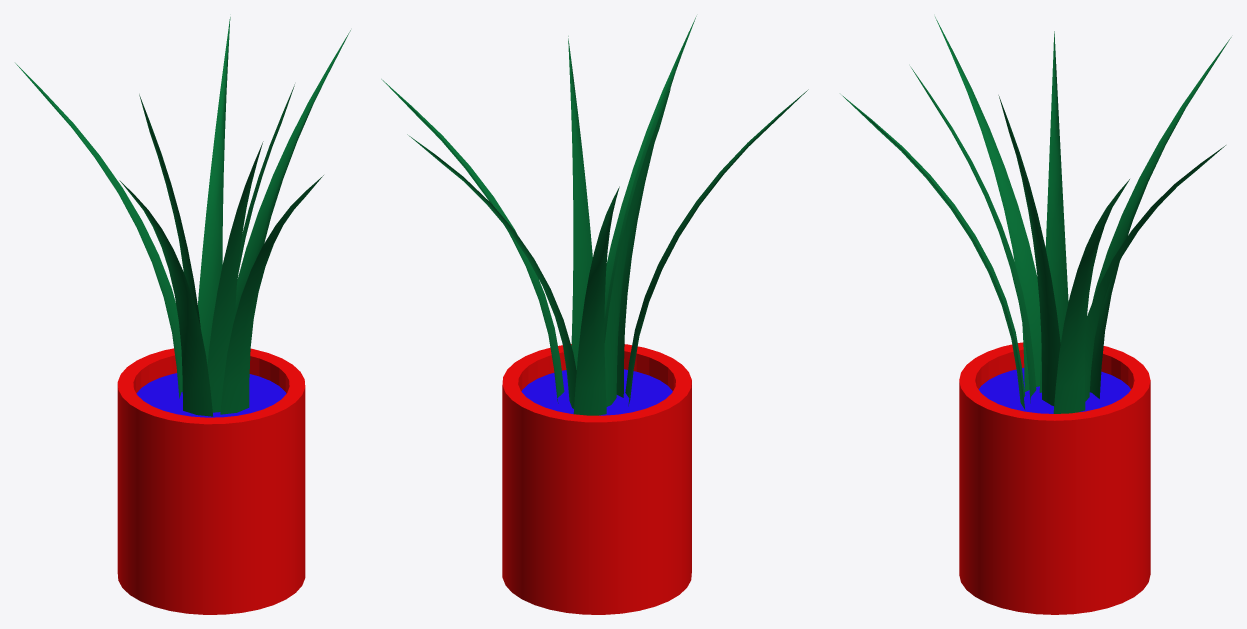
Rendered from Plant.fbx.
3 renders of one model, left to right at view 1: azimuth 30°, elevation 25°; view 2: azimuth 150°, elevation 25°; view 3: azimuth 270°, elevation 25°, orthographic.
Visible parts, largest first — view 1: Plant; view 2: Plant; view 3: Plant.
Boxes of the visible parts, x1,y1,x2,y2 form: Plant: [15, 17, 350, 614]; Plant: [381, 16, 808, 614]; Plant: [842, 17, 1231, 614].
Size of the model in its own units: 19.44 by 28.22 by 19.74.
